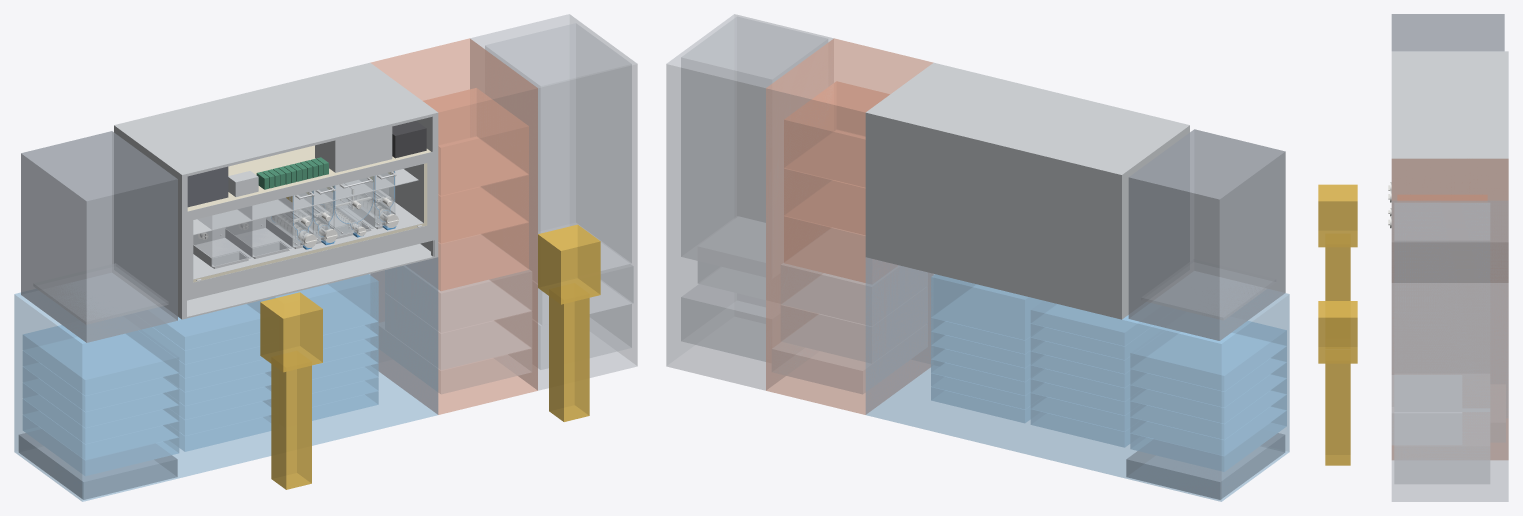
Rendered from hat_v7.glb.
3 views of the same model, side by side, from view 1: azimuth 30°, elevation 25°; view 2: azimuth 150°, elevation 25°; view 3: azimuth 270°, elevation 25° (orthographic). The views are drawn at different scales.
Parts seen in each view (by area): view 1: B_KABIN, TOPPING_MODUL__sac, D_KABIN, E_KABIN, PRESS, E_SARJOR, FIRIN_3, CEK_K1_hamur_6, B_SOGUTMA, ROBOT_2, ROBOT_1, PRESS_PLAKA (+39 smaller); view 2: B_KABIN, TOPPING_MODUL__sac, D_KABIN, E_KABIN, PRESS, E_SARJOR, FIRIN_3, CEK_K1_hamur_6, B_SOGUTMA, E_MEK, PRESS_PLAKA, CEK_K3_icecek_1 (+25 smaller); view 3: E_KABIN, TOPPING_MODUL__sac, E_SARJOR, D_KABIN, E_MEK, PRESS, ROBOT_2, ROBOT_1_KOL, ROBOT_2_KOL, E_AGZ, ROBOT_1, FIRIN_3.
Boxes of the visible parts, box(x1,y1,x2,y2) form: B_KABIN: box(14, 257, 438, 501); TOPPING_MODUL__sac: box(114, 62, 438, 319); D_KABIN: box(370, 38, 537, 414); E_KABIN: box(470, 14, 637, 390); PRESS: box(21, 131, 177, 342); E_SARJOR: box(485, 23, 631, 270); FIRIN_3: box(423, 88, 528, 195); CEK_K1_hamur_6: box(23, 325, 178, 395); B_SOGUTMA: box(18, 429, 177, 499); ROBOT_2: box(549, 283, 589, 421); ROBOT_1: box(271, 351, 311, 489); PRESS_PLAKA: box(33, 263, 168, 324); B_KABIN: box(865, 257, 1289, 501); TOPPING_MODUL__sac: box(865, 62, 1189, 319); D_KABIN: box(766, 38, 933, 414); E_KABIN: box(666, 14, 833, 390); PRESS: box(1128, 129, 1285, 340); E_SARJOR: box(681, 16, 827, 277); FIRIN_3: box(784, 81, 889, 187); CEK_K1_hamur_6: box(1130, 321, 1286, 391); B_SOGUTMA: box(1126, 429, 1285, 499); E_MEK: box(681, 284, 765, 361); PRESS_PLAKA: box(1141, 259, 1275, 320); CEK_K3_icecek_1: box(931, 274, 1042, 339); E_KABIN: box(1391, 200, 1508, 501); TOPPING_MODUL__sac: box(1391, 51, 1508, 282); E_SARJOR: box(1394, 203, 1489, 411); D_KABIN: box(1392, 158, 1508, 459); E_MEK: box(1394, 412, 1489, 483); PRESS: box(1391, 14, 1504, 51); ROBOT_2: box(1325, 363, 1350, 465); ROBOT_1_KOL: box(1318, 184, 1357, 247); ROBOT_2_KOL: box(1318, 301, 1357, 363); E_AGZ: box(1392, 375, 1461, 444); ROBOT_1: box(1325, 234, 1350, 300); FIRIN_3: box(1397, 195, 1487, 200).
Size of the model in its own units: 3.9 by 2.03 by 1.35.
